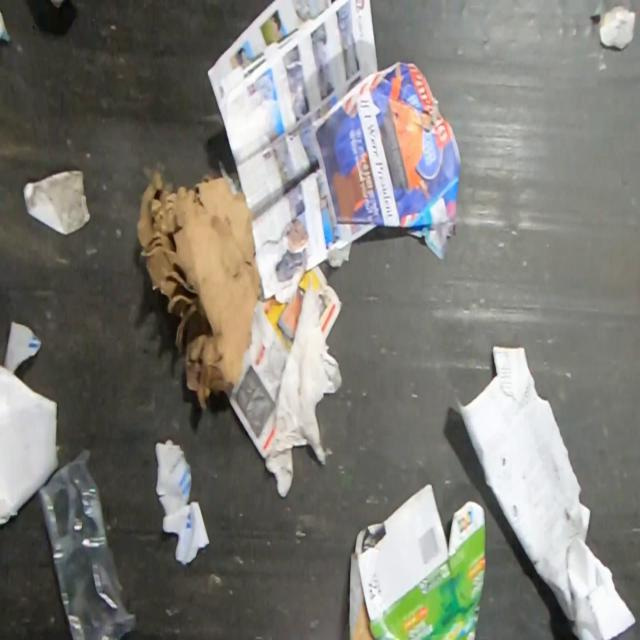cardboard: (135, 168, 264, 413), (347, 482, 488, 640), (0, 361, 61, 528)
soft_plastic: (36, 447, 138, 639)
